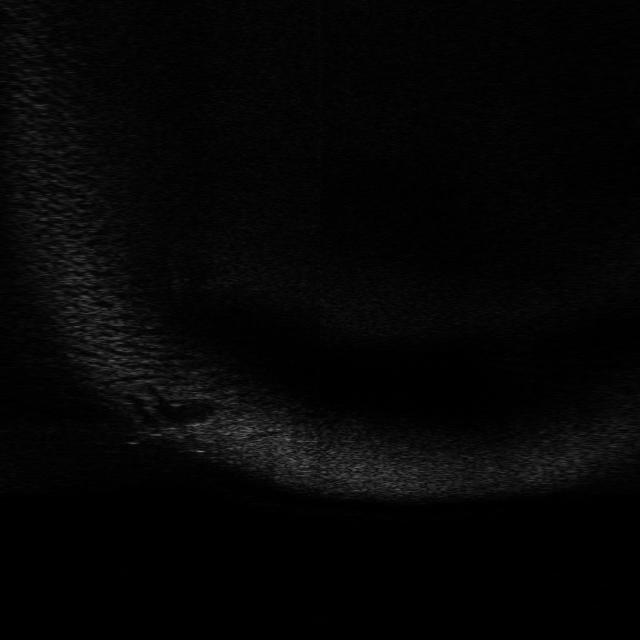plane: (122, 411, 207, 454)
